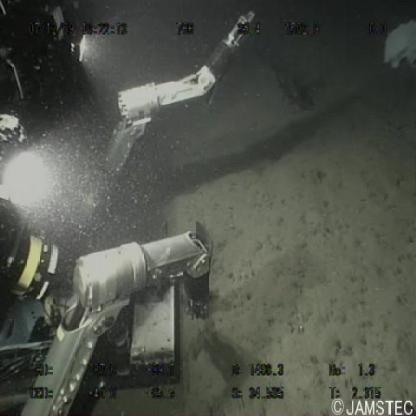Rác: (378, 13, 416, 76)
